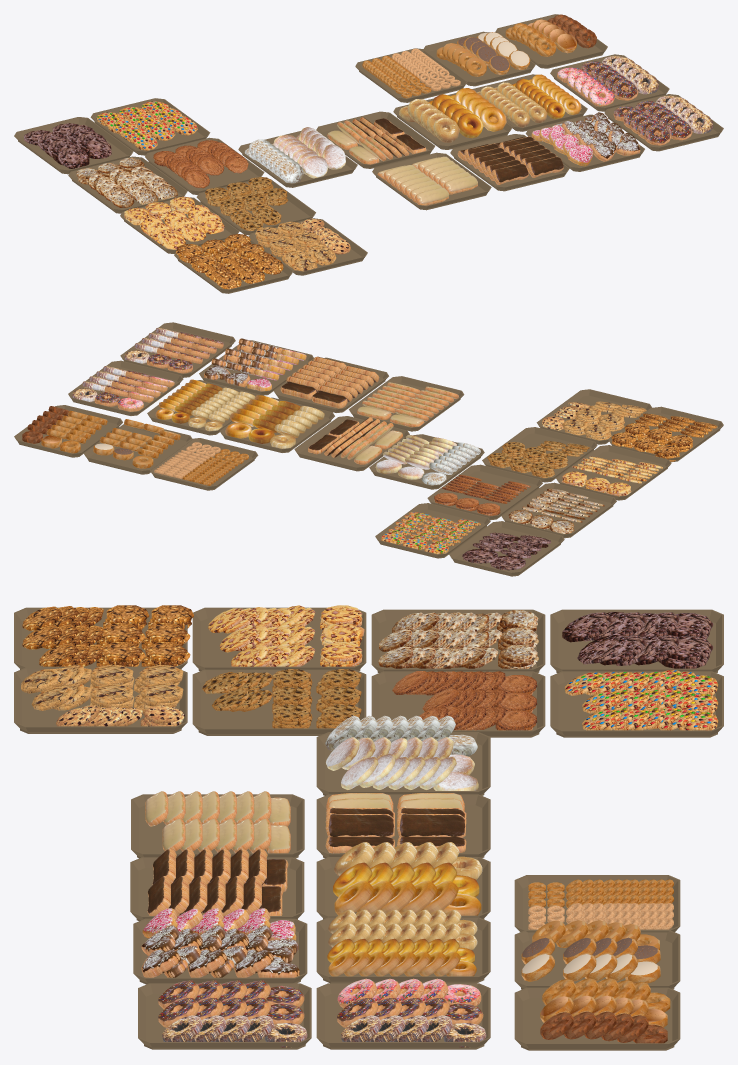
Rendered from cookie_pack.glb.
3 views of the same model, one above another, from view 1: azimuth 30°, elevation 25°; view 2: azimuth 150°, elevation 25°; view 3: azimuth 270°, elevation 25° (orthographic). The views are drawn at different scales.
Parts seen in each view (by area): view 1: 3DGeom-1_1260, 3DGeom-1_671, 3DGeom-196_484, 3DGeom-1_367, 3DGeom-1_159, 3DGeom-1_814, 3DGeom-1_887, 3DGeom-1_5, 3DGeom-196_394, 3DGeom-196_940, 3DGeom-1_231, 3DGeom-1_1112 (+19 smaller); view 2: 3DGeom-1_1191, 3DGeom-1_671, 3DGeom-1_1260, 3DGeom-1_1112, 3DGeom-1_887, 3DGeom-1_814, 3DGeom-196_394, 3DGeom-1_737, 3DGeom-1_367, 3DGeom-1_111, 3DGeom-196_940, 3DGeom-1_231 (+8 smaller); view 3: 3DGeom-1_814, 3DGeom-196_484, 3DGeom-1_1260, 3DGeom-1_887, 3DGeom-1_737, 3DGeom-1_1191, 3DGeom-1_231, 3DGeom-1_111, 3DGeom-1_671, 3DGeom-1_1112, 3DGeom-1_159, 3DGeom-1_36 (+28 smaller).
Boxes of the visible parts, box(x1,y1,x2,y2) form: 3DGeom-1_1260: box(14, 117, 133, 174); 3DGeom-1_671: box(145, 137, 264, 194); 3DGeom-196_484: box(495, 14, 607, 68); 3DGeom-1_367: box(316, 111, 434, 168); 3DGeom-1_159: box(372, 152, 491, 210); 3DGeom-1_814: box(196, 179, 315, 235); 3DGeom-1_887: box(90, 98, 210, 155); 3DGeom-1_5: box(450, 134, 569, 191); 3DGeom-196_394: box(423, 31, 535, 86); 3DGeom-196_940: box(355, 48, 467, 102); 3DGeom-1_231: box(604, 94, 723, 151); 3DGeom-1_1112: box(68, 156, 187, 213); 3DGeom-1_1191: box(556, 445, 671, 500); 3DGeom-1_671: box(427, 464, 542, 520); 3DGeom-1_1260: box(449, 521, 564, 576); 3DGeom-1_1112: box(501, 482, 616, 538); 3DGeom-1_887: box(375, 503, 490, 558); 3DGeom-1_814: box(482, 427, 597, 482); 3DGeom-196_394: box(84, 424, 192, 474); 3DGeom-1_737: box(536, 389, 651, 444); 3DGeom-1_367: box(294, 416, 409, 471); 3DGeom-1_111: box(68, 360, 183, 415); 3DGeom-196_940: box(149, 438, 258, 490); 3DGeom-1_231: box(120, 322, 235, 377); 3DGeom-1_814: box(192, 669, 366, 735); 3DGeom-196_484: box(514, 987, 680, 1050); 3DGeom-1_1260: box(550, 609, 723, 672); 3DGeom-1_887: box(550, 671, 723, 737); 3DGeom-1_737: box(14, 667, 187, 733); 3DGeom-1_1191: box(192, 607, 366, 670); 3DGeom-1_231: box(138, 983, 311, 1049); 3DGeom-1_111: box(316, 983, 490, 1049); 3DGeom-1_671: box(371, 671, 545, 737); 3DGeom-1_1112: box(371, 609, 545, 672); 3DGeom-1_159: box(131, 794, 304, 858); 3DGeom-1_36: box(316, 917, 490, 983).
Bounding box in the file's own units: 3.25 × 0.1242 × 2.23.
10 materials, 7 textured.
